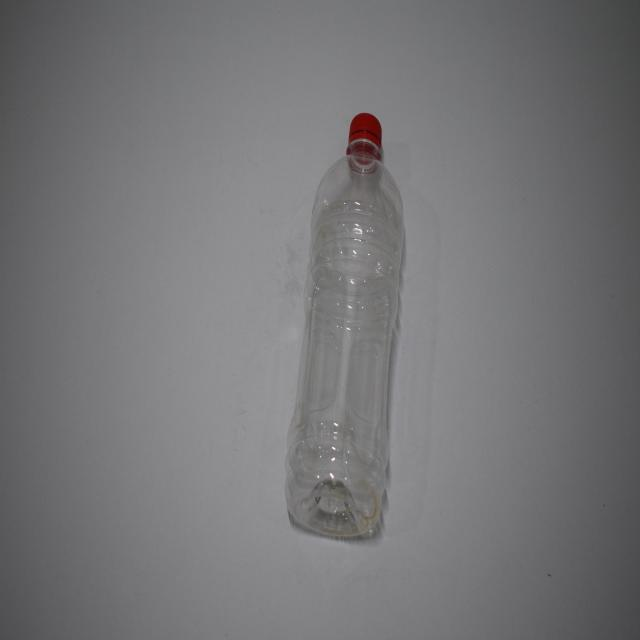bottle: (299, 107, 405, 561)
